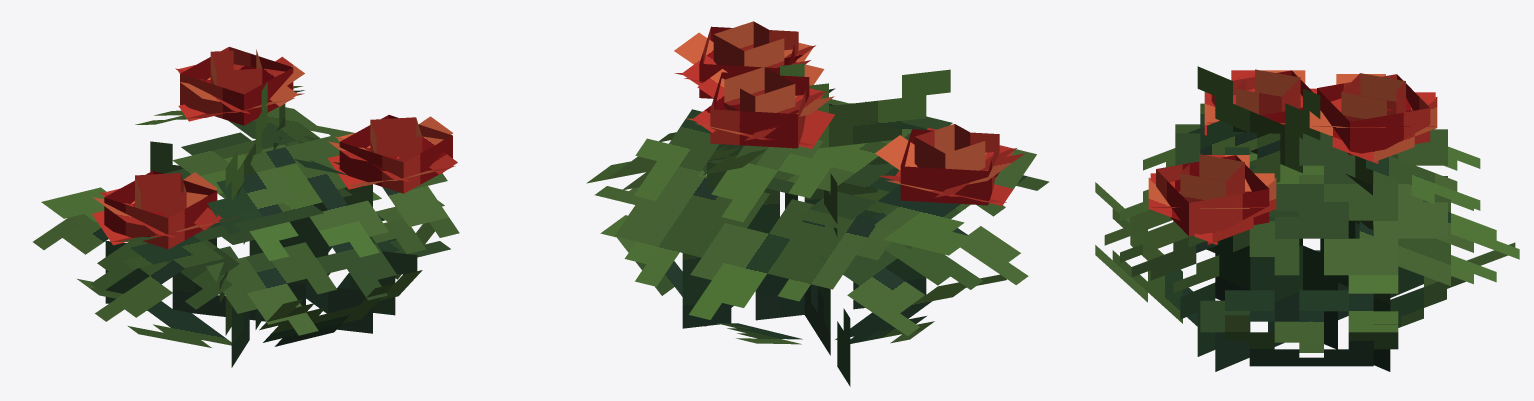
Rendered from flower-rose.gltf.
3 views of the same model, side by side, from view 1: azimuth 30°, elevation 25°; view 2: azimuth 150°, elevation 25°; view 3: azimuth 270°, elevation 25° (orthographic). The views are drawn at different scales.
Visible parts, largest first — view 1: cube (×24), cube inverted (×6); view 2: cube (×27), cube inverted (×6); view 3: cube (×25), cube inverted (×5).
Part boxes in pixels (x1=…): cube (×24): x1=33, y1=46, x2=459, y2=367; cube inverted (×6): x1=104, y1=47, x2=452, y2=248; cube (×27): x1=586, y1=21, x2=1049, y2=386; cube inverted (×6): x1=699, y1=21, x2=999, y2=205; cube (×25): x1=1095, y1=66, x2=1519, y2=371; cube inverted (×5): x1=1156, y1=70, x2=1430, y2=236.
Size of the model in its own units: 1.13 by 0.7525 by 1.07.
Materials: 1 (1 with a texture image).
